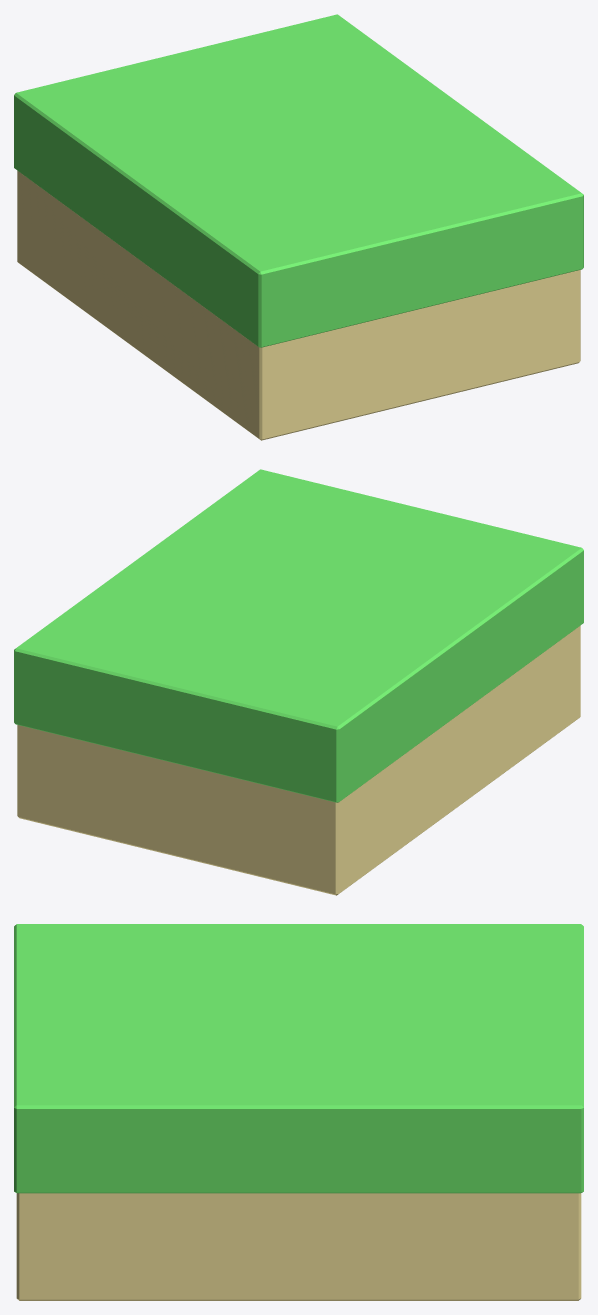
Rendered from Grass_Block_S1.fbx.
The picture shows the model from 3 angles, top to bottom: view 1: azimuth 30°, elevation 25°; view 2: azimuth 150°, elevation 25°; view 3: azimuth 270°, elevation 25°; orthographic projection. The views are drawn at different scales.
Visible parts, largest first — view 1: Grass_Block; view 2: Grass_Block; view 3: Grass_Block.
Part boxes in pixels (box(x1,y1,x2,y2)): Grass_Block: box(14, 14, 583, 440); Grass_Block: box(14, 469, 583, 895); Grass_Block: box(14, 924, 583, 1300).
Size of the model in its own units: 3200 by 1600 by 4200.
